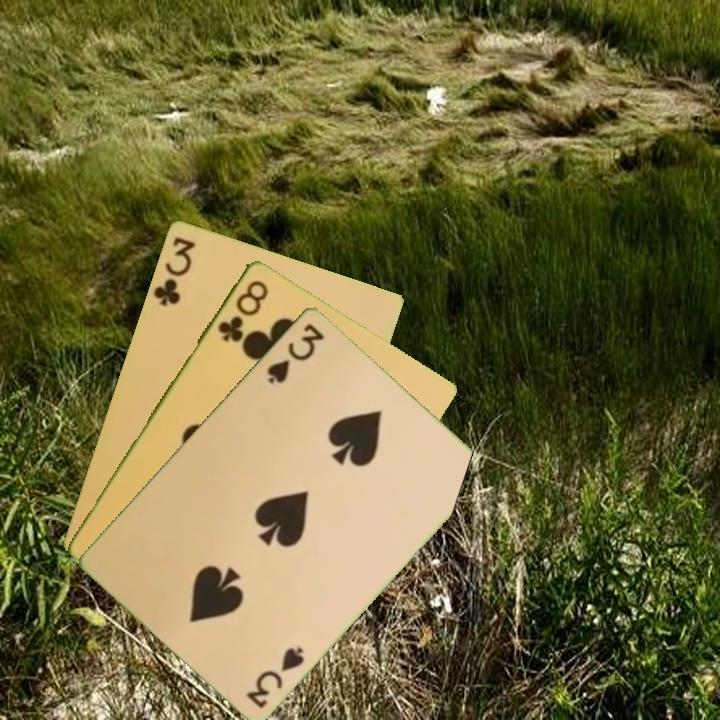3c: (149, 232, 198, 309)
3s: (263, 319, 328, 387), (243, 642, 307, 711)
8c: (214, 275, 271, 345)
